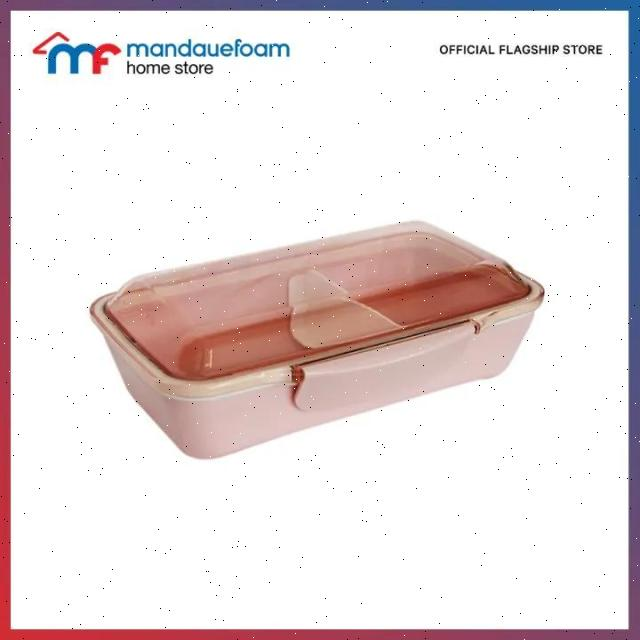styrofoam: (88, 217, 545, 459)
